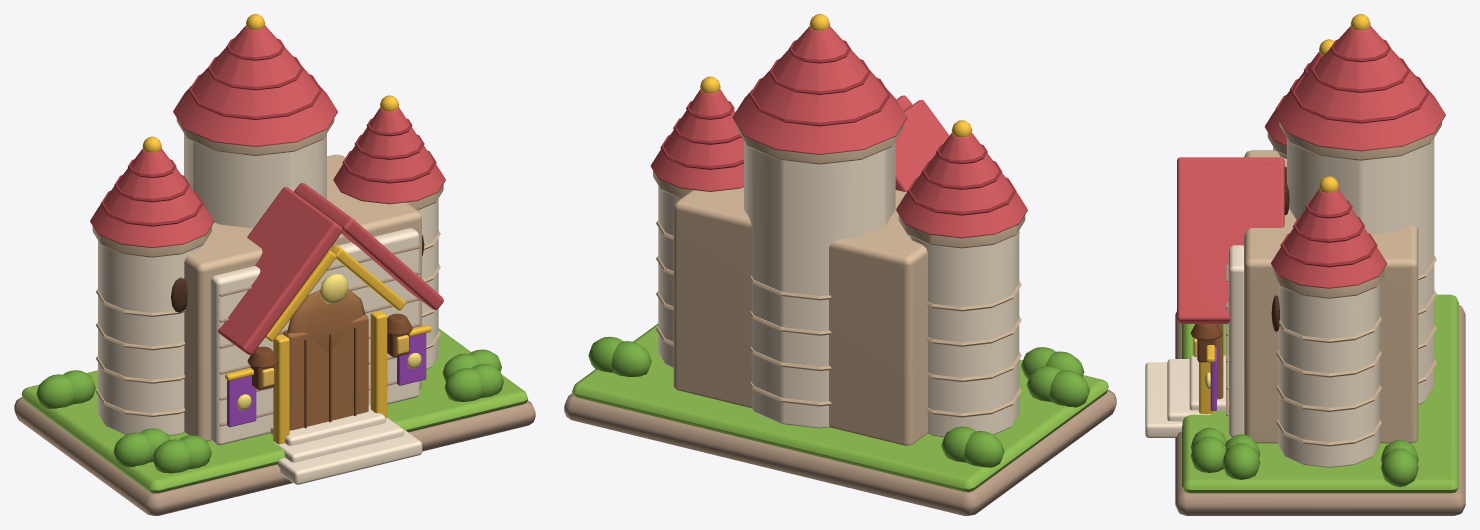
The model's file is CastleModules.fbx.
3 views of the same model, side by side, from view 1: azimuth 30°, elevation 25°; view 2: azimuth 150°, elevation 25°; view 3: azimuth 270°, elevation 25° (orthographic). The views are drawn at different scales.
Parts seen in each view (by area): view 1: Tower_Left_Wall, Tower_Center_Roof, Foundation_Grass, Keep_MainWall, Keep_FrontPanel, Foundation_Island, Entrance_Roof_Left, Tower_Center_Wall, Tower_Left_Roof, Entrance_Door, Tower_Right_Roof, Step_2 (+22 smaller); view 2: Keep_MainWall, Tower_Center_Wall, Foundation_Grass, Tower_Left_Wall, Foundation_Island, Tower_Center_Roof, Tower_Left_Roof, Tower_Right_Roof, Entrance_Roof_Left, Tower_Right_Wall, Tower_Center_Cornice, Tower_Left_Cornice (+7 smaller); view 3: Keep_MainWall, Tower_Right_Wall, Foundation_Grass, Tower_Center_Roof, Entrance_Roof_Right, Tower_Center_Wall, Foundation_Island, Tower_Right_Roof, Keep_FrontPanel, Step_2, Tower_Center_Cornice, Step_1 (+19 smaller).
Part boxes in pixels (x1,y1,x2,y2): Tower_Left_Wall: [98, 240, 201, 435]; Tower_Center_Roof: [173, 25, 337, 146]; Foundation_Grass: [22, 328, 527, 493]; Keep_MainWall: [184, 154, 421, 441]; Keep_FrontPanel: [210, 228, 419, 445]; Foundation_Island: [14, 397, 535, 515]; Entrance_Roof_Left: [217, 187, 342, 354]; Tower_Center_Wall: [184, 133, 326, 228]; Tower_Left_Roof: [90, 148, 214, 247]; Entrance_Door: [283, 314, 368, 430]; Tower_Right_Roof: [333, 107, 445, 204]; Step_2: [277, 429, 422, 484]; Keep_MainWall: [673, 187, 927, 445]; Tower_Center_Wall: [744, 141, 895, 428]; Foundation_Grass: [572, 323, 1108, 492]; Tower_Left_Wall: [909, 230, 1019, 437]; Foundation_Island: [564, 390, 1116, 515]; Tower_Center_Roof: [732, 26, 907, 154]; Tower_Left_Roof: [896, 132, 1027, 238]; Tower_Right_Roof: [650, 89, 743, 191]; Entrance_Roof_Left: [895, 100, 1019, 232]; Tower_Right_Wall: [658, 186, 680, 367]; Tower_Center_Cornice: [736, 124, 903, 164]; Tower_Left_Cornice: [898, 215, 1025, 248]; Keep_MainWall: [1244, 150, 1418, 443]; Tower_Right_Wall: [1278, 283, 1379, 467]; Foundation_Grass: [1182, 294, 1458, 493]; Tower_Center_Roof: [1275, 26, 1445, 151]; Entrance_Roof_Right: [1177, 165, 1284, 323]; Tower_Center_Wall: [1287, 138, 1434, 404]; Foundation_Island: [1175, 305, 1465, 515]; Tower_Right_Roof: [1271, 188, 1386, 288]; Keep_FrontPanel: [1228, 245, 1243, 437]; Step_2: [1145, 362, 1182, 437]; Tower_Center_Cornice: [1279, 122, 1441, 160]; Step_1: [1167, 359, 1210, 421].
Bounding box in the file's own units: 445 × 426 × 304.
